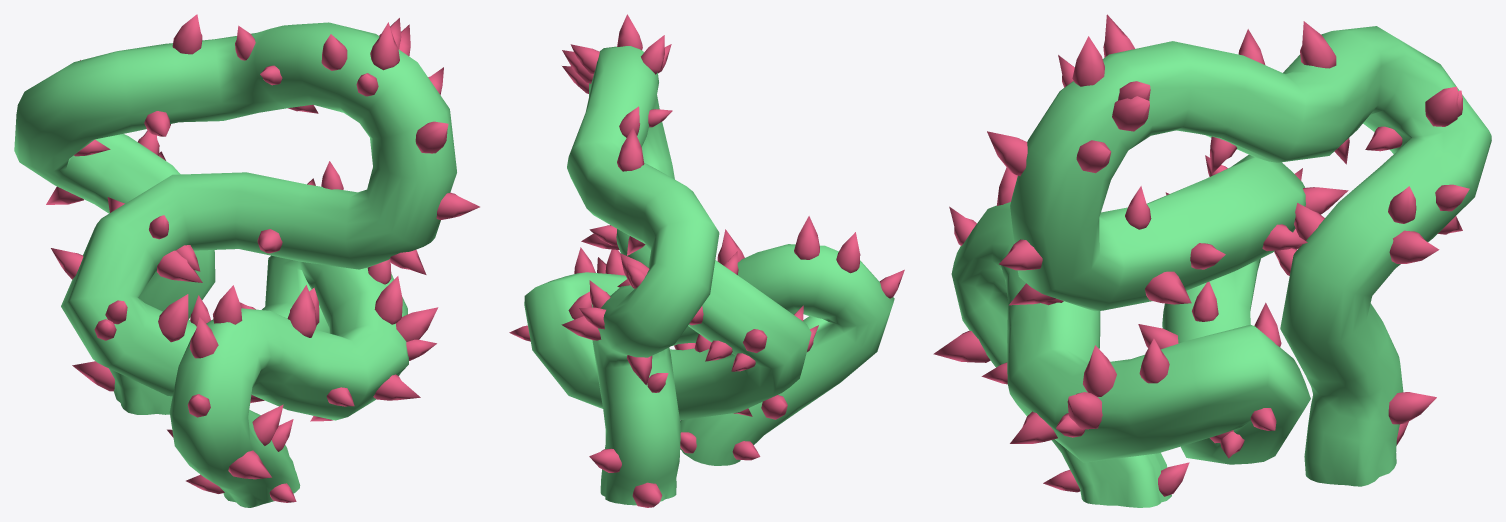
File: Ciernie1.fbx
3 views of the same model, side by side, from view 1: azimuth 30°, elevation 25°; view 2: azimuth 150°, elevation 25°; view 3: azimuth 270°, elevation 25° (orthographic). The views are drawn at different scales.
Visible parts, largest first — view 1: Ciernie1; view 2: Ciernie1; view 3: Ciernie1.
Part boxes in pixels (x1,y1,x2,y2): Ciernie1: (14,14,479,507); Ciernie1: (509,14,904,507); Ciernie1: (933,14,1491,507).
Size of the model in its own units: 6.08 by 8.1 by 7.72.
